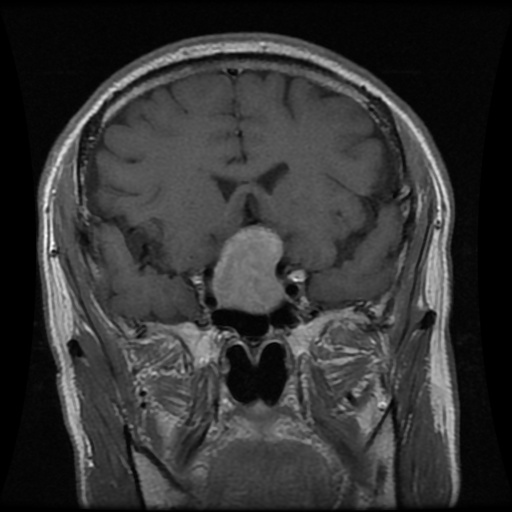pituitary: (211, 224, 285, 314)
